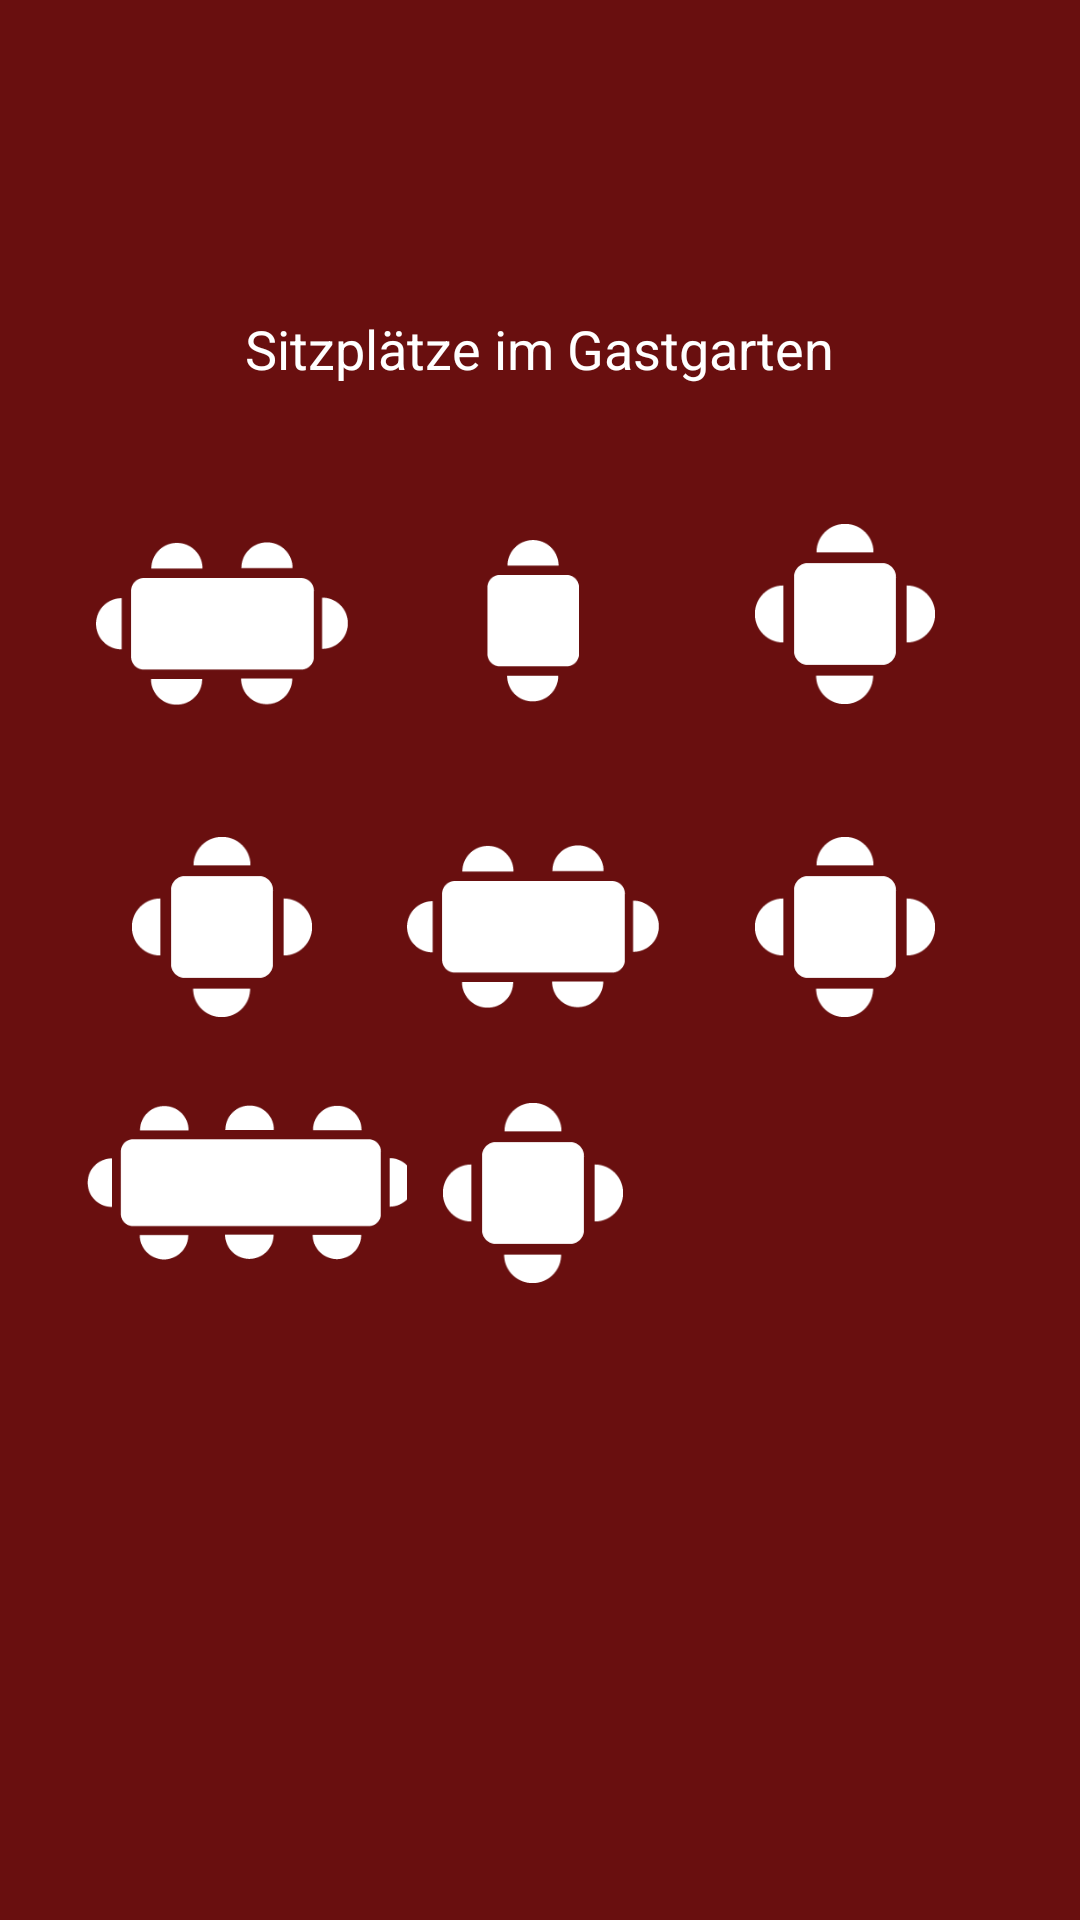

Icon click points for this 1080 x 1920 phone screenshot, format (x,y):
table: (845,614), (533,621), (222,623), (222,927), (845,927), (533,926), (533,1193), (247,1182)
